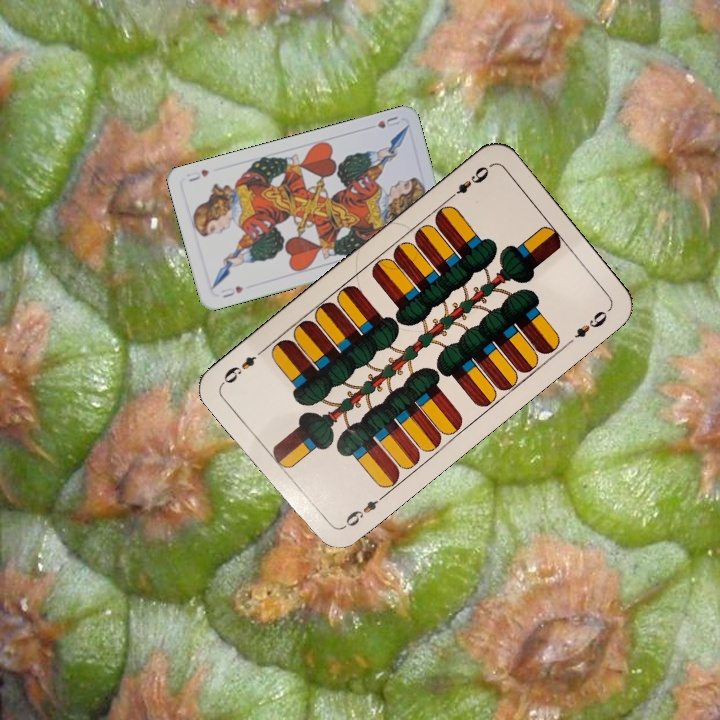E9: (337, 490, 388, 532), (444, 162, 492, 203)
HU: (373, 112, 402, 131), (217, 282, 246, 300)
